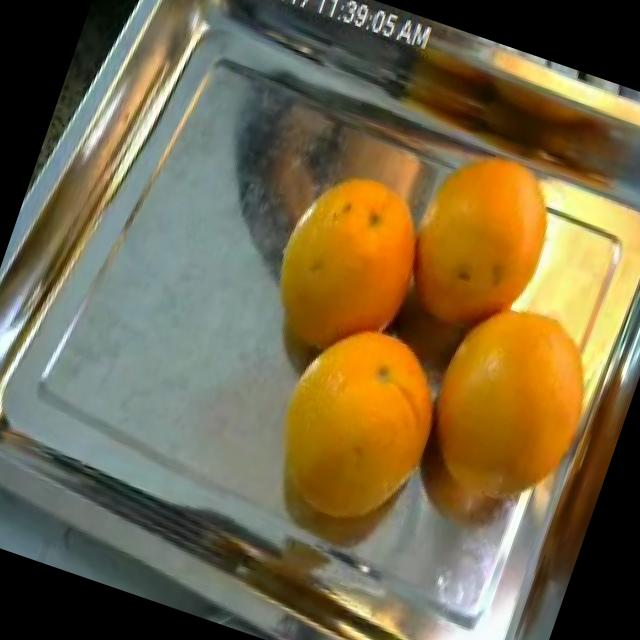Fruit: (203, 69, 390, 284)
